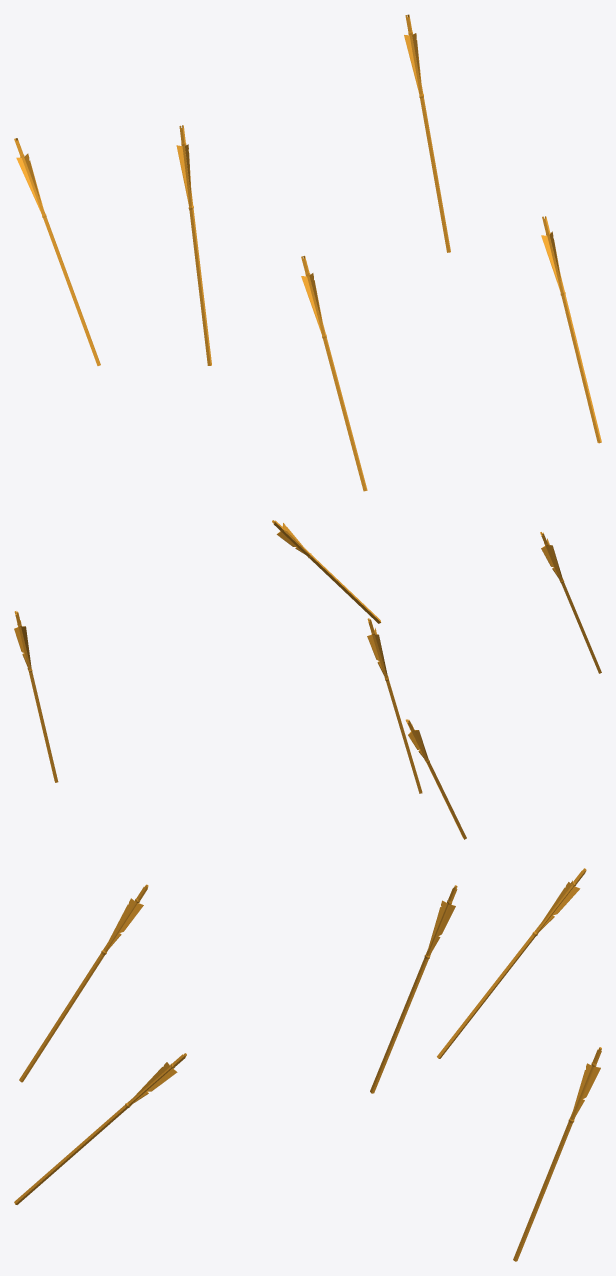
The model's file is SM_Arrows_Inground_D_Fantasy.fbx.
The picture shows the model from 3 angles, top to bottom: view 1: azimuth 30°, elevation 25°; view 2: azimuth 150°, elevation 25°; view 3: azimuth 270°, elevation 25°; orthographic projection. The views are drawn at different scales.
Parts seen in each view (by area): view 1: arrows-inground-d-fantasy; view 2: arrows-inground-d-fantasy; view 3: arrows-inground-d-fantasy.
Part boxes in pixels (bbox=[...]): arrows-inground-d-fantasy: bbox=[14, 14, 601, 491]; arrows-inground-d-fantasy: bbox=[14, 520, 601, 839]; arrows-inground-d-fantasy: bbox=[14, 868, 601, 1261].
Size of the model in its own units: 1.74 by 0.9004 by 2.11.
